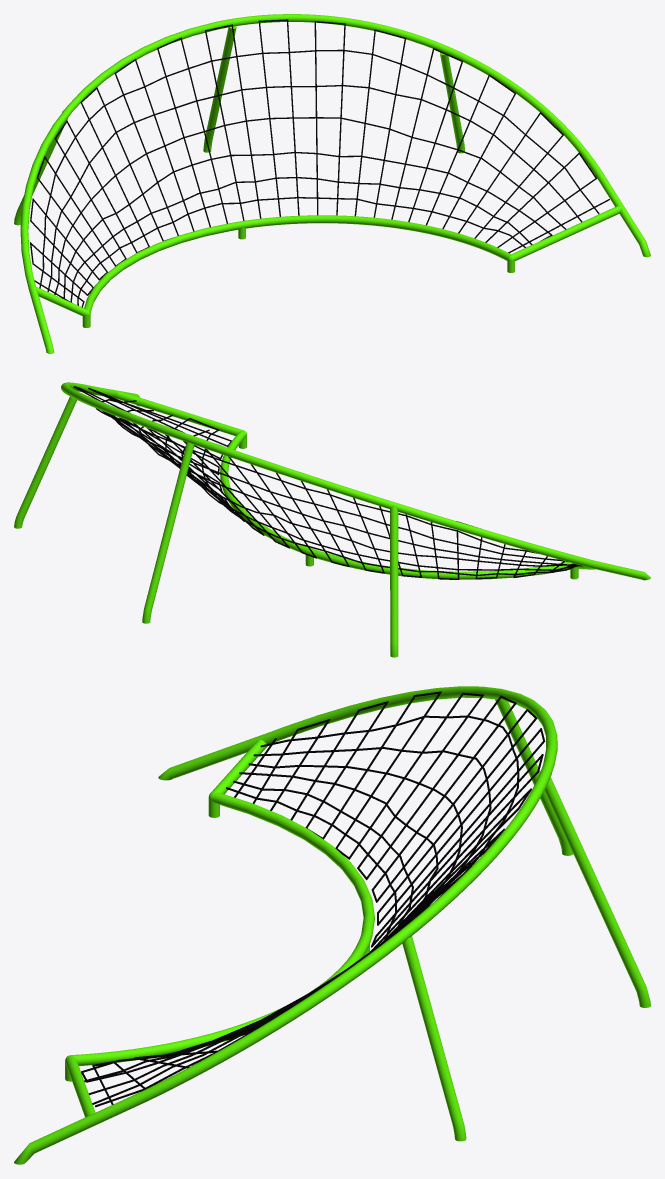
Rendered from 17005- Moon.FBX.
The picture shows the model from 3 angles, top to bottom: view 1: azimuth 30°, elevation 25°; view 2: azimuth 150°, elevation 25°; view 3: azimuth 270°, elevation 25°; orthographic projection. The views are drawn at different scales.
Size of the model in its own units: 319 by 87.97 by 221.
